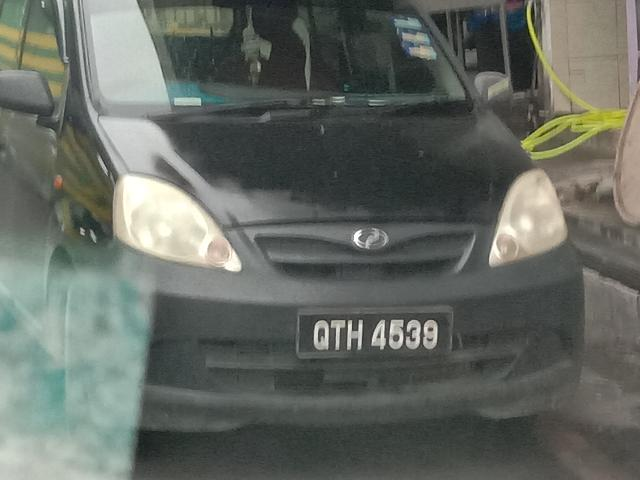License_Plate: (299, 308, 456, 360)
car: (2, 2, 589, 449)
